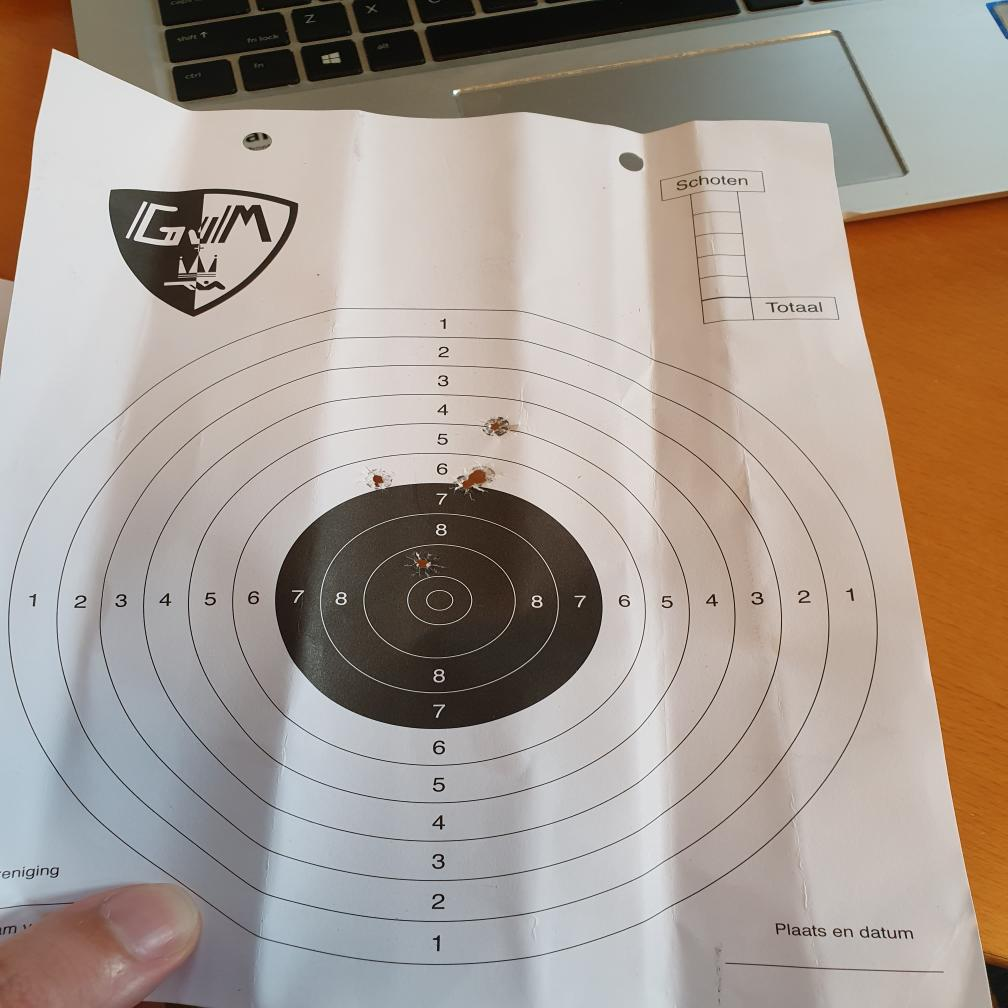5: (474, 412, 518, 441)
6: (467, 464, 501, 488)
7: (360, 466, 394, 493), (446, 478, 476, 504)
9: (398, 545, 448, 580)
Target: (9, 305, 881, 961)
black_contour: (275, 482, 604, 730)
